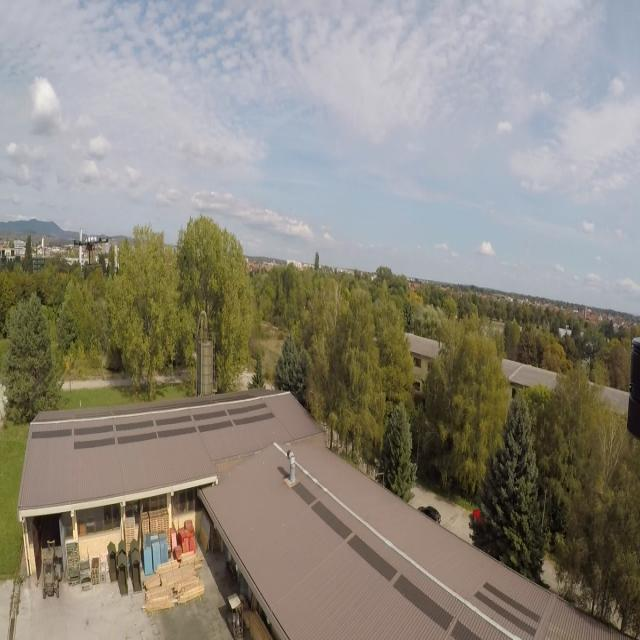UAV: (67, 231, 113, 267)
